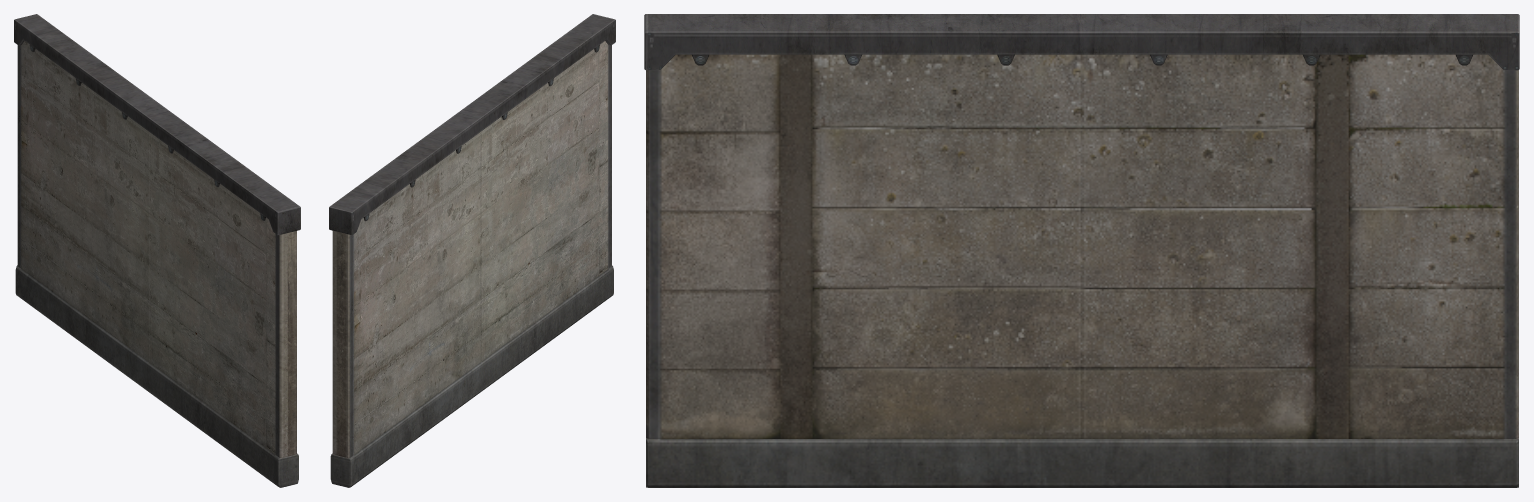
The model's file is prop_wallPanel_C.fbx.
3 views of the same model, side by side, from view 1: azimuth 30°, elevation 25°; view 2: azimuth 150°, elevation 25°; view 3: azimuth 270°, elevation 25° (orthographic). The views are drawn at different scales.
Parts seen in each view (by area): view 1: prop_wallPanel_C; view 2: prop_wallPanel_C; view 3: prop_wallPanel_C.
Boxes of the visible parts, bbox=[...] form: prop_wallPanel_C: bbox=[14, 14, 300, 487]; prop_wallPanel_C: bbox=[329, 14, 615, 487]; prop_wallPanel_C: bbox=[644, 14, 1519, 487].
Bounding box in the file's own units: 20.26 × 232 × 401.
